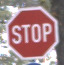stopsign: (7, 6, 60, 59)
